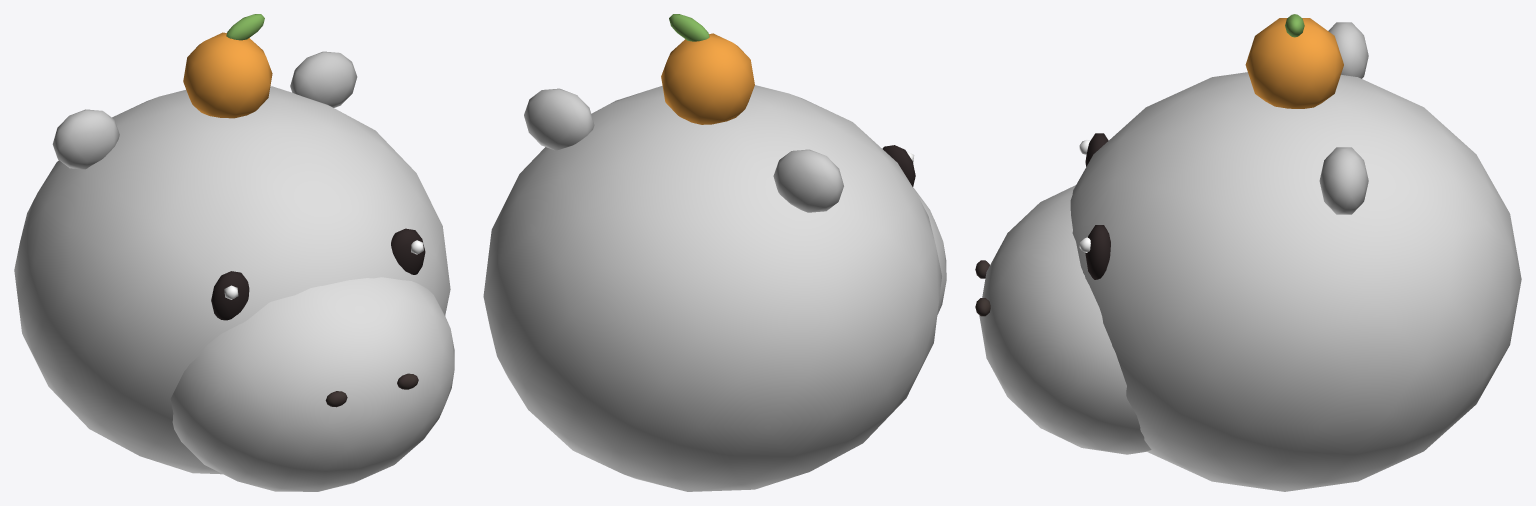
File: animal.capybara.glb
The picture shows the model from 3 angles, left to right: view 1: azimuth 30°, elevation 25°; view 2: azimuth 150°, elevation 25°; view 3: azimuth 270°, elevation 25°; orthographic projection. The views are drawn at different scales.
Parts seen in each view (by area): view 1: head, orange; view 2: head, orange; view 3: head, orange.
Part boxes in pixels (box(x1,y1,x2,y2)): head: box(14, 51, 454, 491); orange: box(183, 14, 272, 118); head: box(483, 85, 946, 491); orange: box(661, 14, 754, 124); head: box(975, 22, 1521, 491); orange: box(1245, 14, 1343, 108).
Size of the model in its own units: 0.48 by 0.5183 by 0.554.
